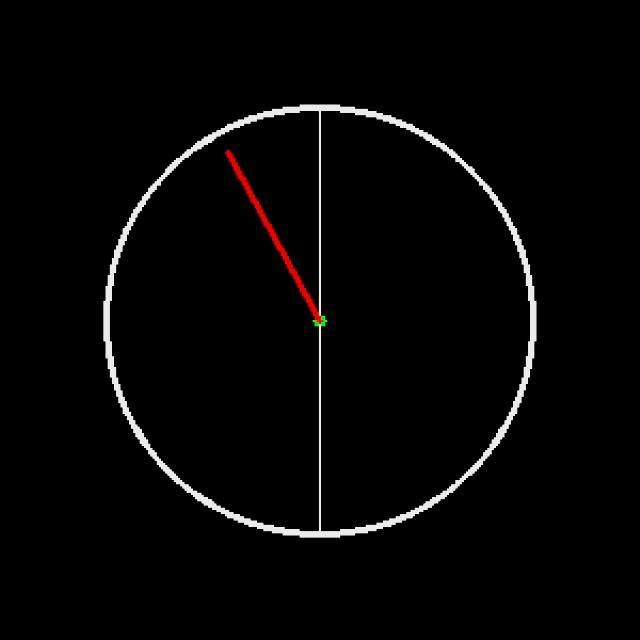Needle_Tip: (206, 143, 252, 174)
Needle_base: (280, 284, 342, 357)
